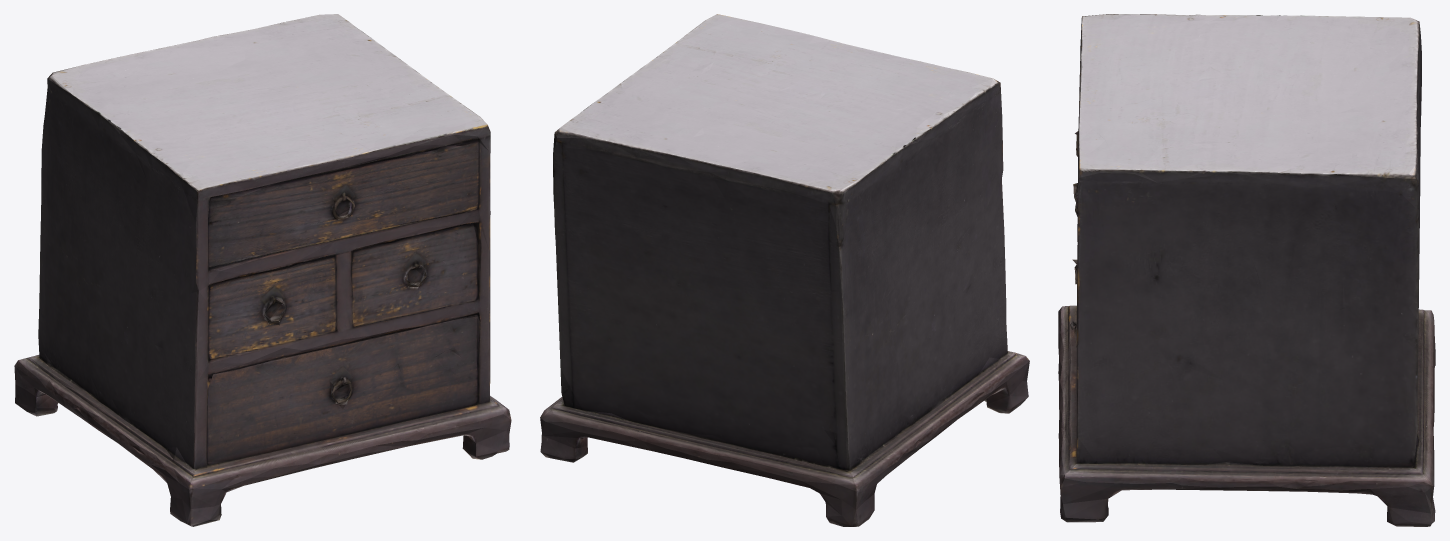
File: SM_Wooden_Comb_Box.fbx
The picture shows the model from 3 angles, left to right: view 1: azimuth 30°, elevation 25°; view 2: azimuth 150°, elevation 25°; view 3: azimuth 270°, elevation 25°; orthographic projection. The views are drawn at different scales.
Visible parts, largest first — view 1: KCDF_2022_prop_Wooden_Comb_Box_Mesh; view 2: KCDF_2022_prop_Wooden_Comb_Box_Mesh; view 3: KCDF_2022_prop_Wooden_Comb_Box_Mesh.
Boxes of the visible parts, bbox=[...] form: KCDF_2022_prop_Wooden_Comb_Box_Mesh: bbox=[14, 14, 511, 526]; KCDF_2022_prop_Wooden_Comb_Box_Mesh: bbox=[540, 14, 1029, 526]; KCDF_2022_prop_Wooden_Comb_Box_Mesh: bbox=[1058, 14, 1435, 526].
Bounding box in the file's own units: 49.89 × 49.42 × 47.17.
1 material, 1 textured.
